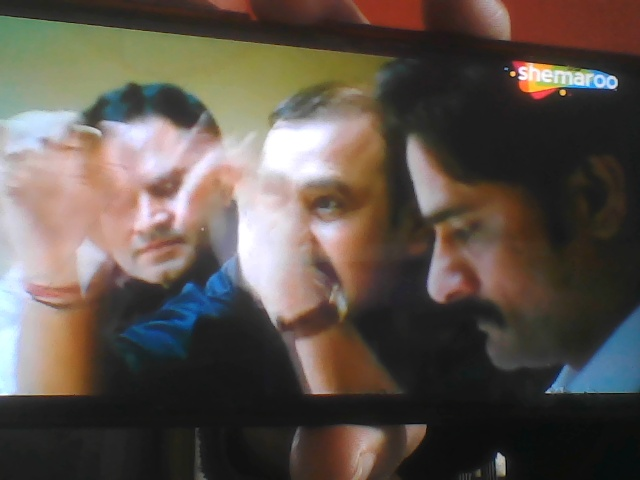fake: (403, 67, 617, 371)
